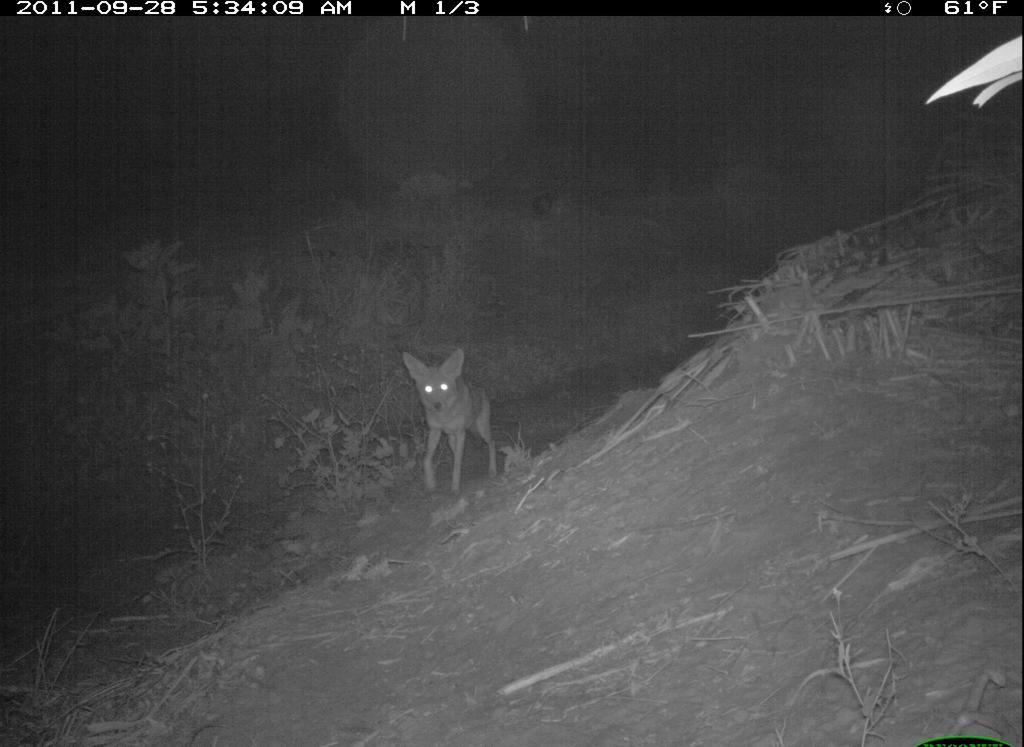coyote: (395, 317, 525, 519)
